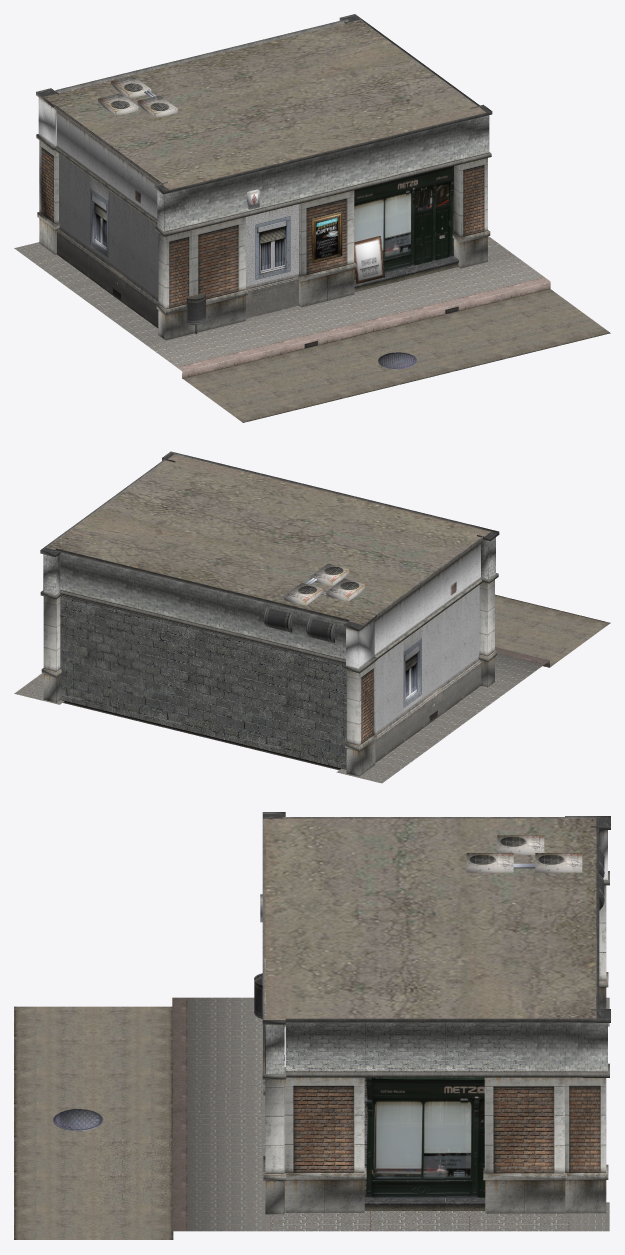
3 renders of one model, top to bottom at view 1: azimuth 30°, elevation 25°; view 2: azimuth 150°, elevation 25°; view 3: azimuth 270°, elevation 25°, orthographic. The views are drawn at different scales.
Visible parts, largest first — view 1: metzo coffee bar; view 2: metzo coffee bar; view 3: metzo coffee bar.
Boxes of the visible parts, x1,y1,x2,y2 form: metzo coffee bar: (14, 14, 610, 422); metzo coffee bar: (14, 451, 610, 783); metzo coffee bar: (14, 812, 610, 1239).
Size of the model in its own units: 9.12 by 3.85 by 9.84.
1 material, 1 textured.
